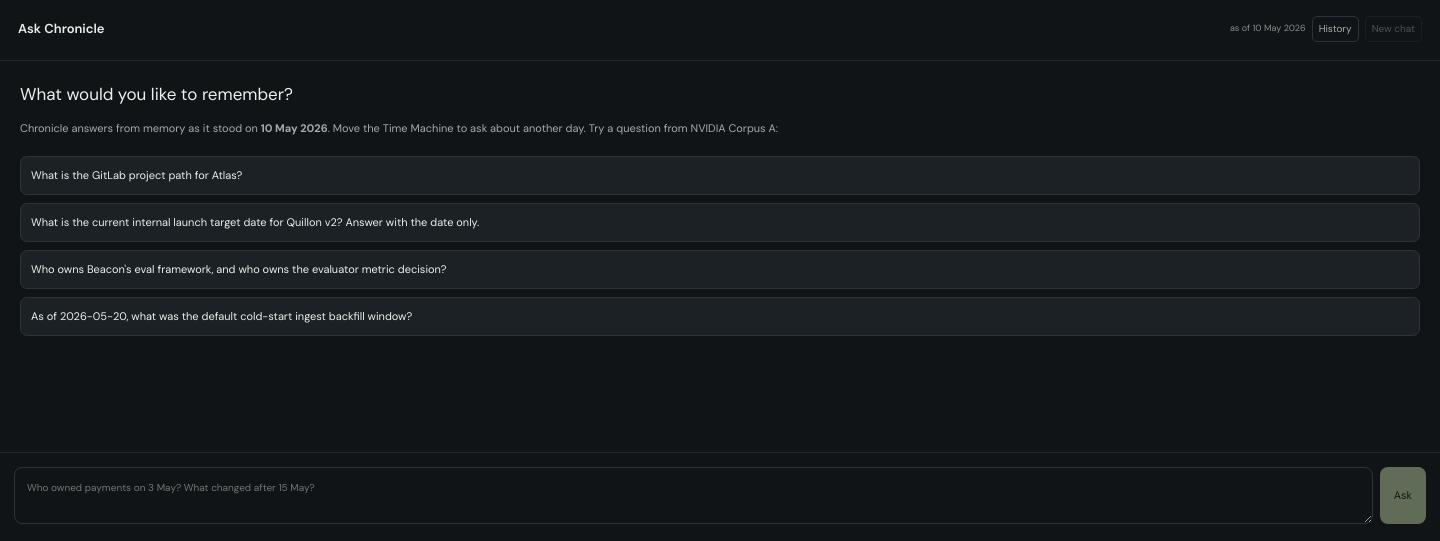
Scenario: an empty chat suggests questions, and clicking one asks it
Expected: the text "Try a question from NVIDIA Corpus A" is shown, x1=328 y1=121 x2=778 y2=135
Click the button "What is the GitLab project path for Atlas?".
click(137, 175)  # box x1=20 y1=156 x2=1420 y2=194
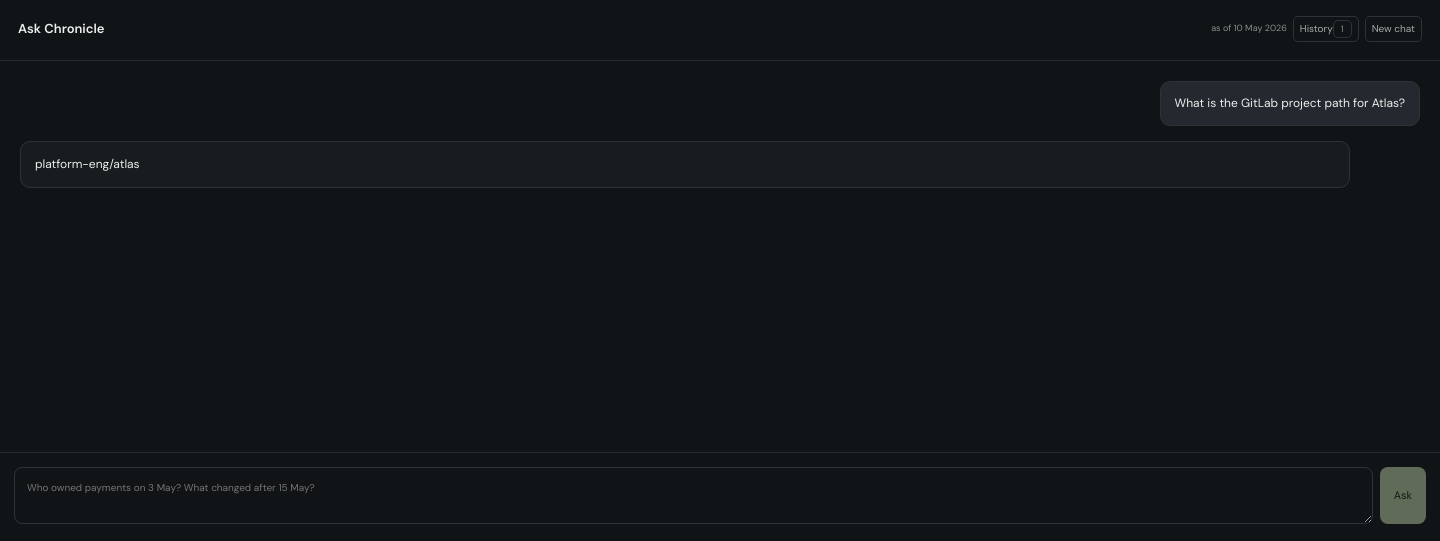
Expected: the text "What is the GitLab project path for Atlas?" is shown, x1=1160 y1=81 x2=1420 y2=126
Result: the text "platform-eng/atlas" is shown at x1=20 y1=140 x2=1350 y2=188
